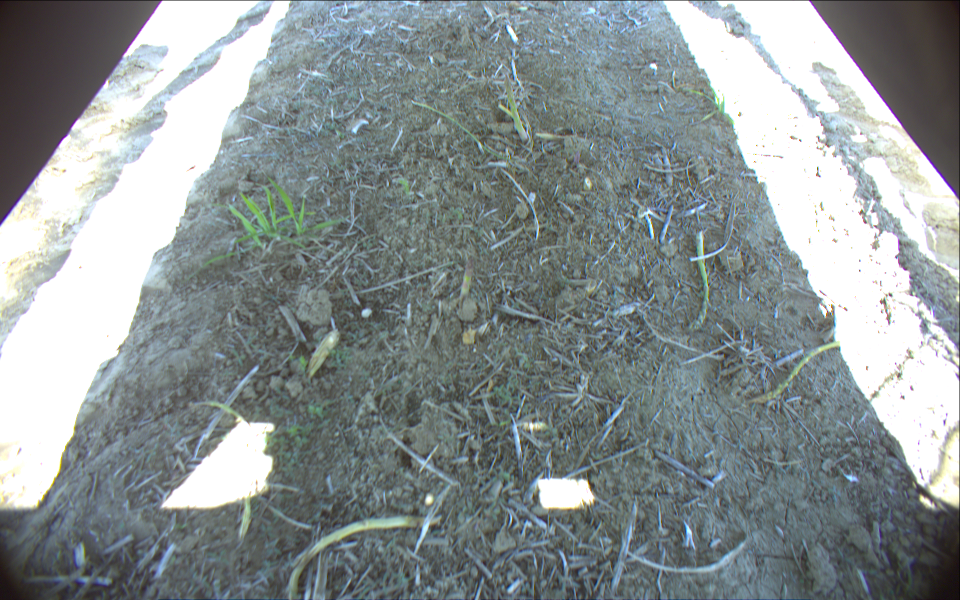aspa: (500, 72, 527, 146)
